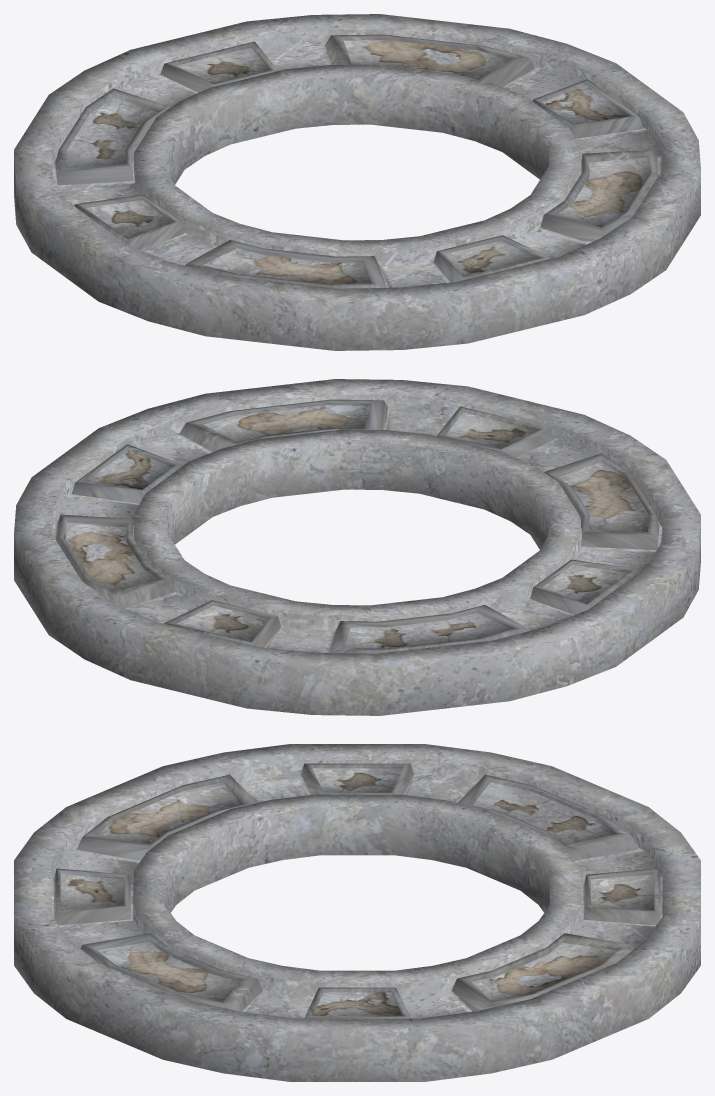
File: mirror_wall.fbx
3 views of the same model, one above another, from view 1: azimuth 30°, elevation 25°; view 2: azimuth 150°, elevation 25°; view 3: azimuth 270°, elevation 25° (orthographic).
Visible parts, largest first — view 1: Mirror_wall; view 2: Mirror_wall; view 3: Mirror_wall.
Boxes of the visible parts, box(x1,y1,x2,y2) form: Mirror_wall: box(14, 14, 700, 350); Mirror_wall: box(14, 379, 700, 715); Mirror_wall: box(14, 744, 700, 1081).
Size of the model in its own units: 350 by 26.8 by 350.
